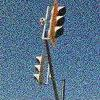traffic lights: (51, 4, 67, 43)
